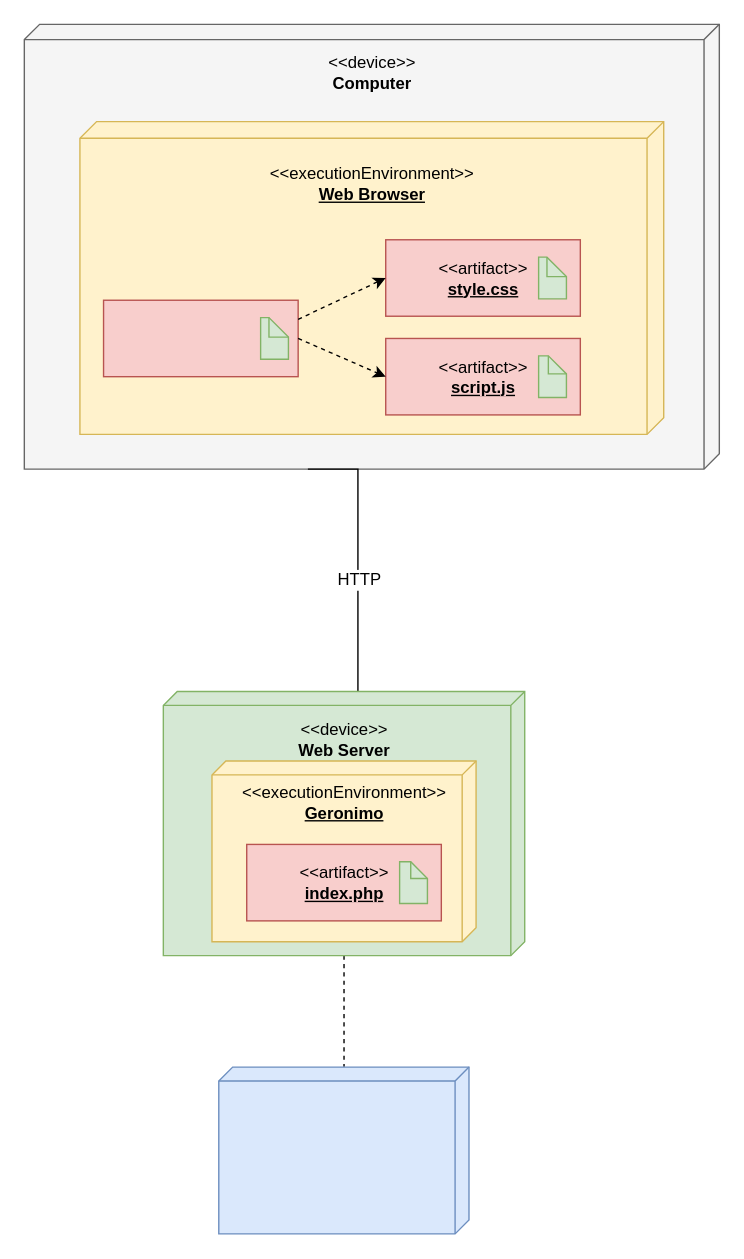
This 744x1259 diagram has some shape labels left out. The shapes that lost their labels are listed below. From the top down, each one's box as (x1, y1, x2, y2) in pixels, then its label:
(102, 299, 298, 377): <<artifact>> index.html
(217, 1066, 469, 1234): <<device>> Firewall
